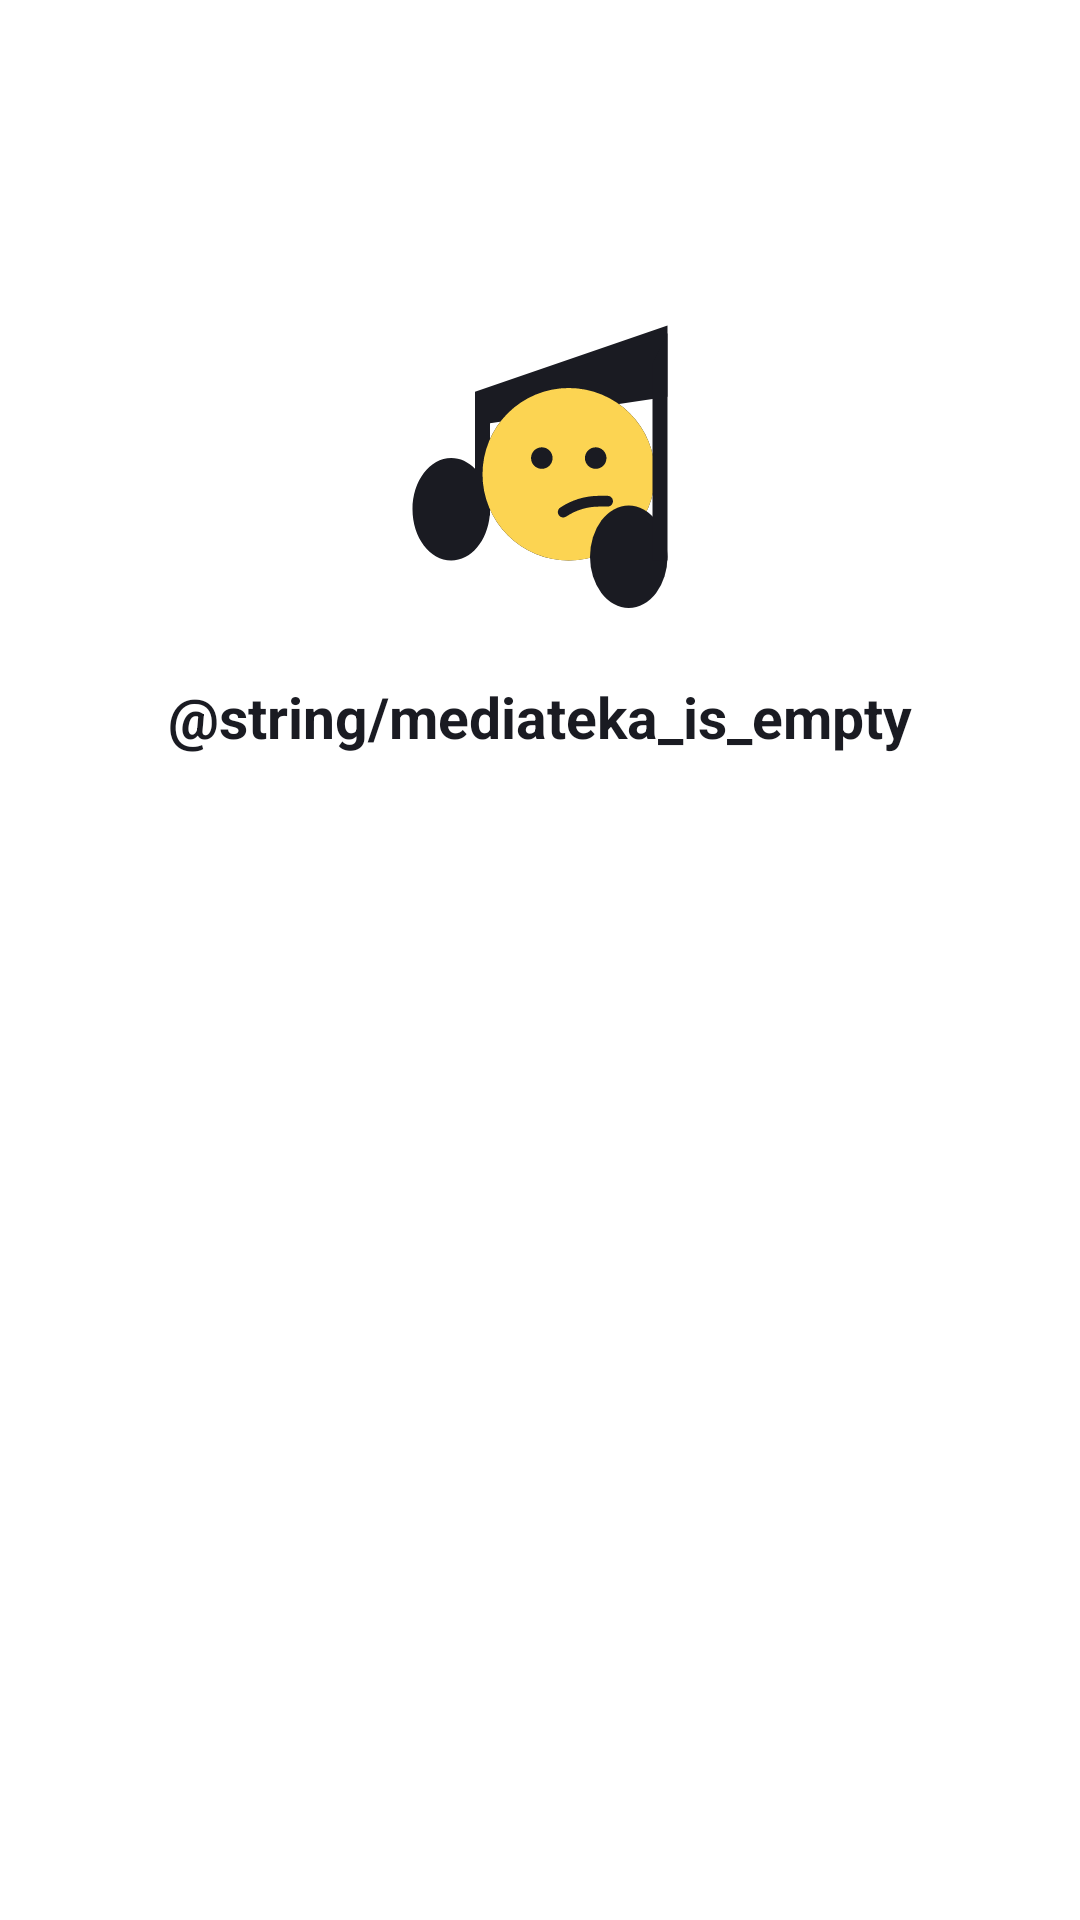

Icon bounding boxes for this 1080*1920 phone screenshot, format (x1, y1, x2, y2):
not found: (412, 325, 668, 608)
